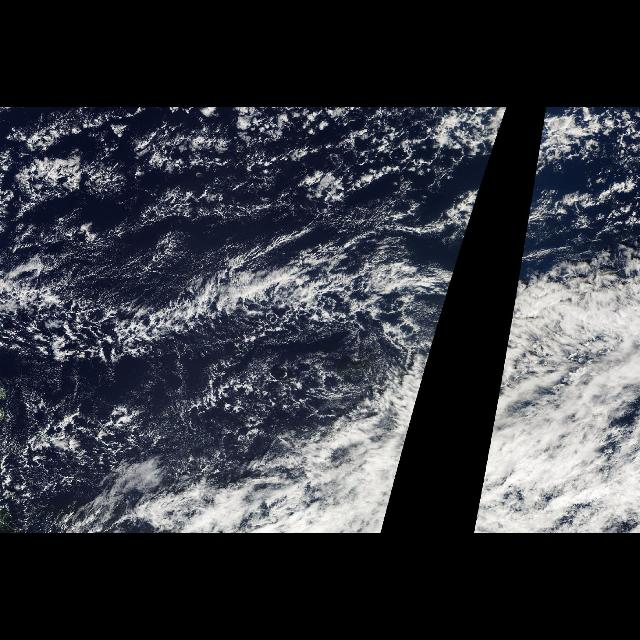Gravel: (1, 108, 493, 242)
